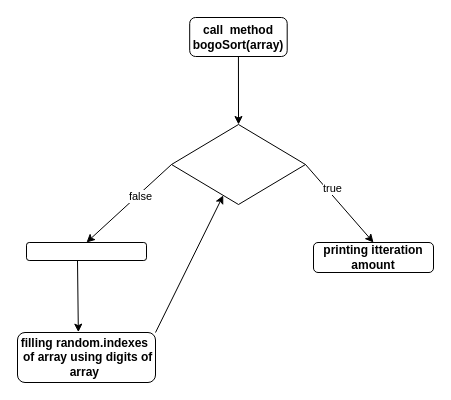
Image size: 451x400. Some labels were removed from this diagram. Here are the shapes that lost their labels. From the top down, the box of each, then its label:
(170, 124, 306, 204): while !array.isSorted
(26, 242, 146, 260): call method shuffle
